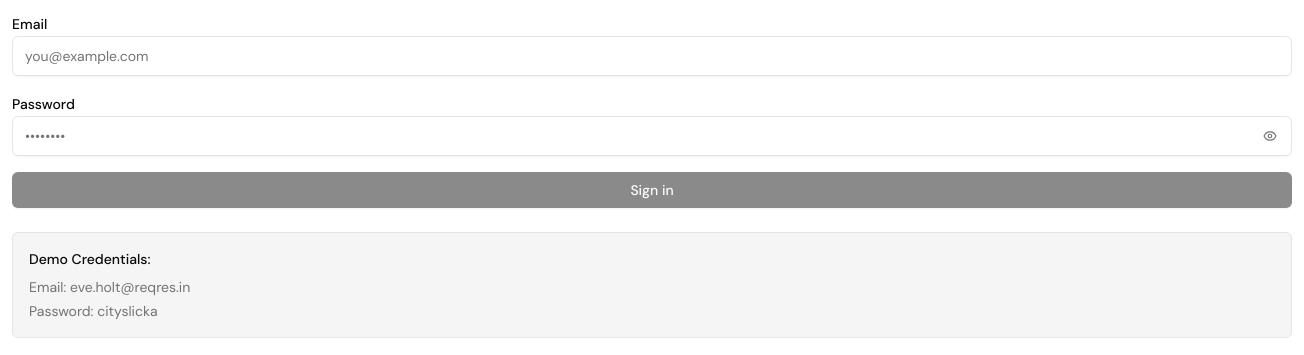
Test: LoginForm › form validity › enables the button when email is valid and password is non-empty
Type "valid@example.com" into the field labelled "Email".
click(652, 56); type("valid@example.com")  # box x1=13 y1=38 x2=1291 y2=74
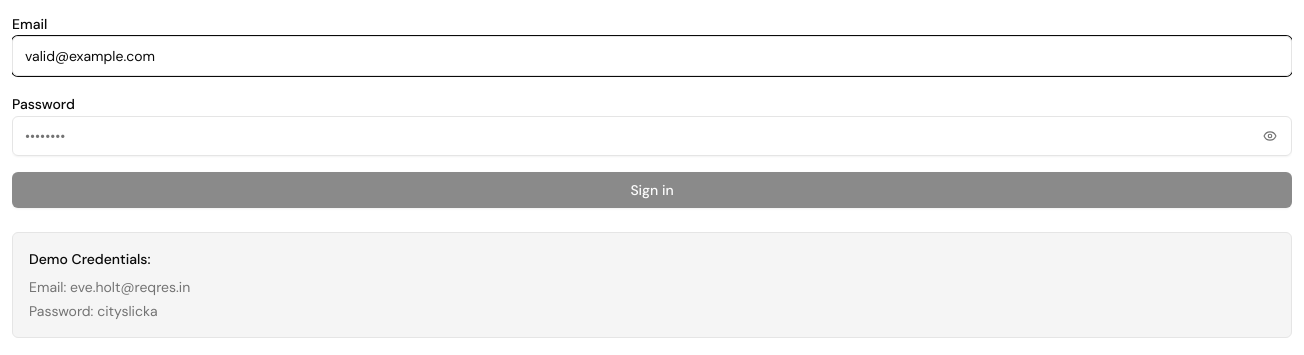
Type "anypassword" into the password field labelled "Password".
click(634, 136); type("anypassword")  # box x1=13 y1=118 x2=1255 y2=154
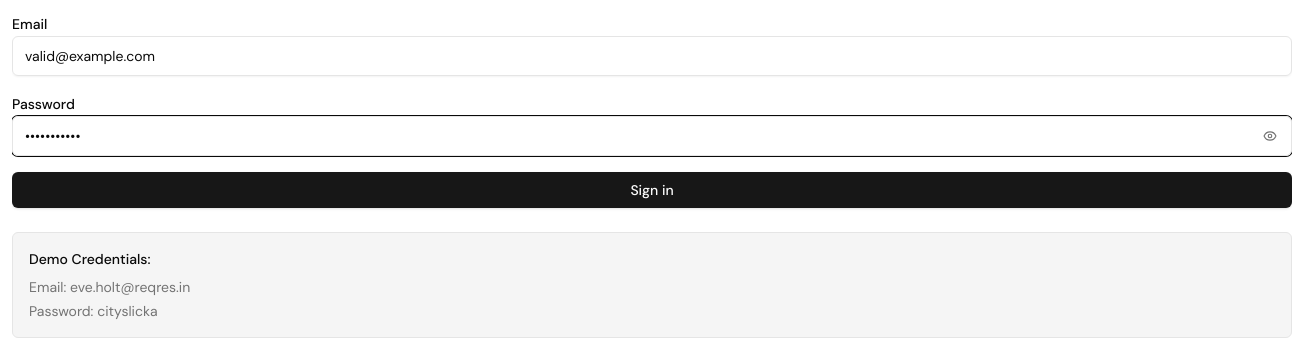
Now the button "Sign in" is enabled, box x1=12 y1=172 x2=1292 y2=208
